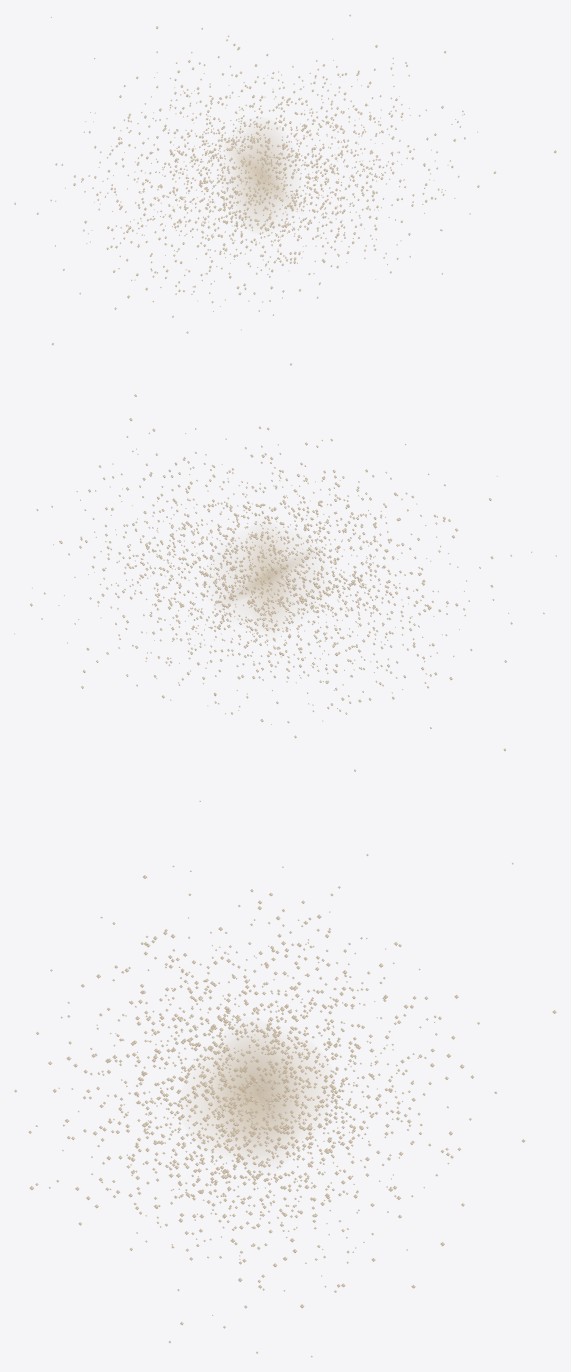
3 renders of one model, top to bottom at view 1: azimuth 30°, elevation 25°; view 2: azimuth 150°, elevation 25°; view 3: azimuth 270°, elevation 25°, orthographic. The views are drawn at different scales.
Bounding box in the file's own units: 7.25 × 4.68 × 5.61.
